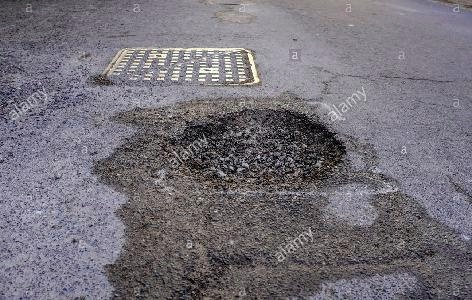pothole: (156, 106, 345, 188)
